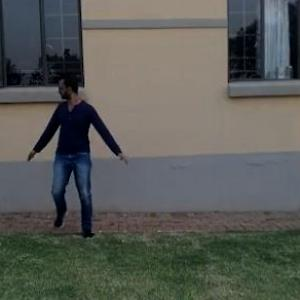land: (26, 75, 123, 239)
